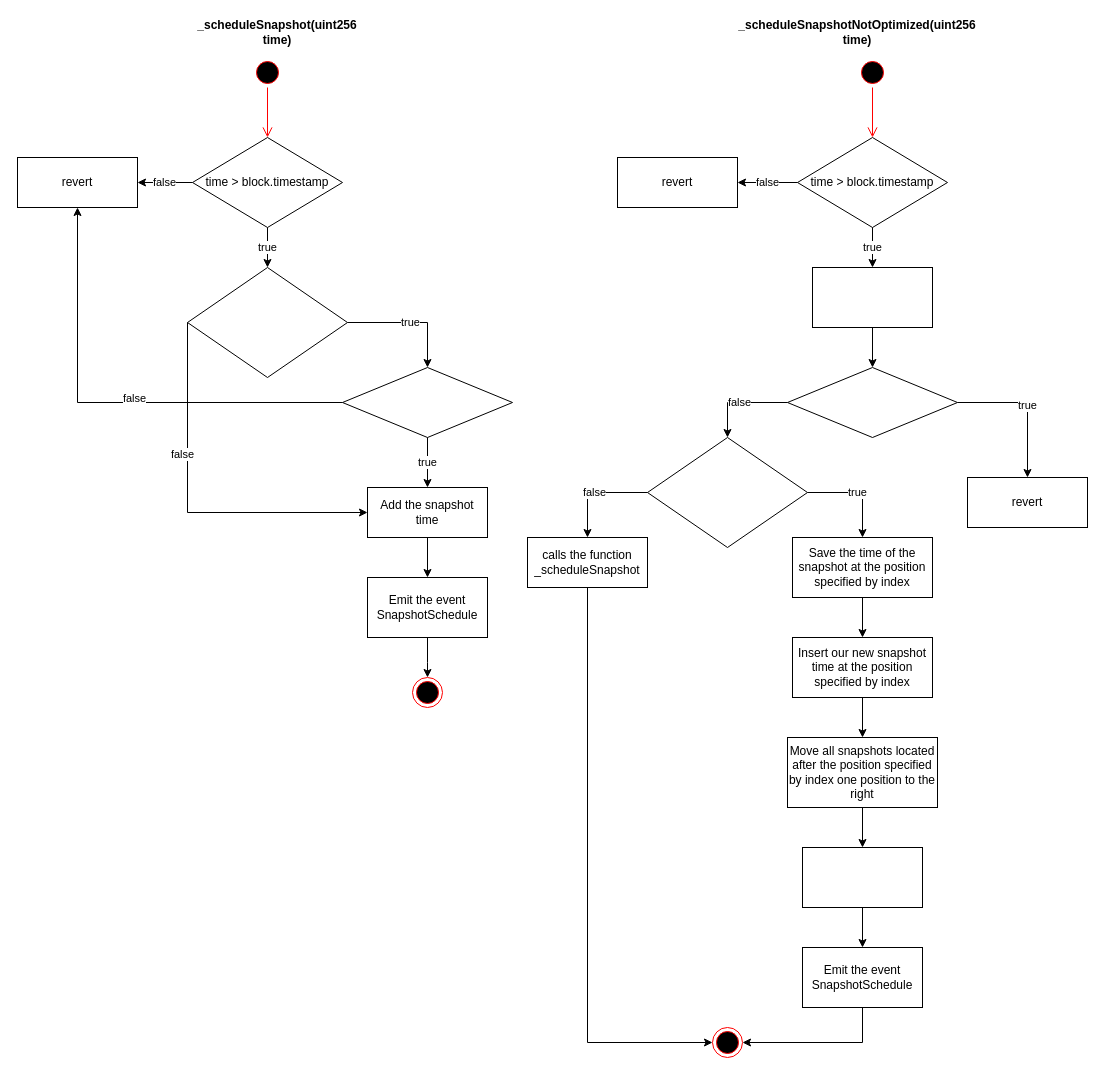
The diagram is 1105 pixels wide and 1075 high, and some of its shapes have lost their labels. Each missing label, with the centre of its shape:
"Find the index (upper bound) of the snapshot" belongs at (872,297).
"Move our save snapshot to one position to the right" belongs at (862,877).
"Number of scheduled snapshots > 0" belongs at (267,322).
"Snapshot exists (perfect match) ?" belongs at (872,402).
"Snasphot exists (upper bound match)" belongs at (727,492).
"time > last snapshot time" belongs at (427,402).
